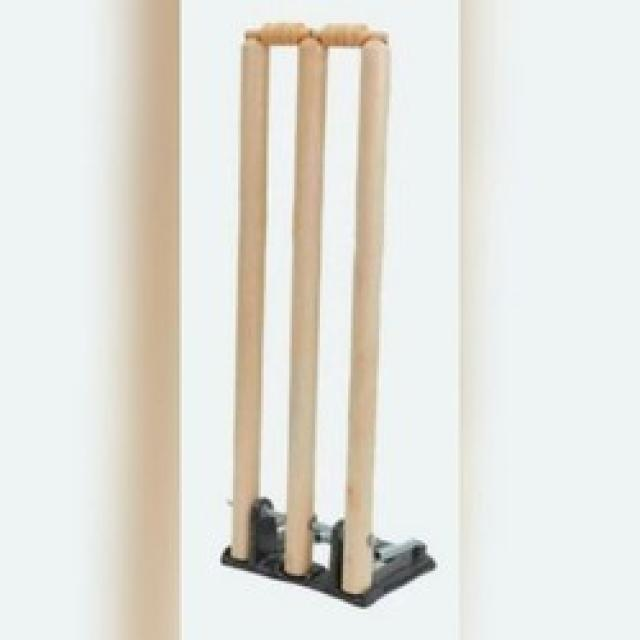stump: (239, 23, 378, 587)
